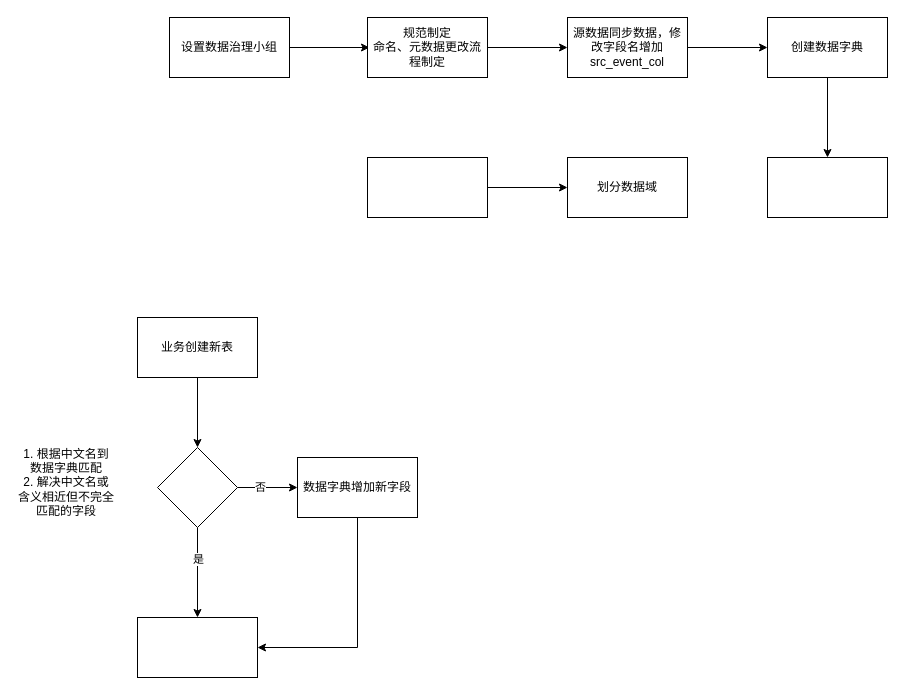
The diagram is 905 pixels wide and 695 high, and some of its shapes have lost their labels. The shapes that lost their labels are listed below. From the top down, each one's centre as x and y in pixels, then its label:
At (x=427, y=187): "业务流程梳理".
At (x=197, y=487): "字段全部匹配".
At (x=197, y=647): "创建表".
